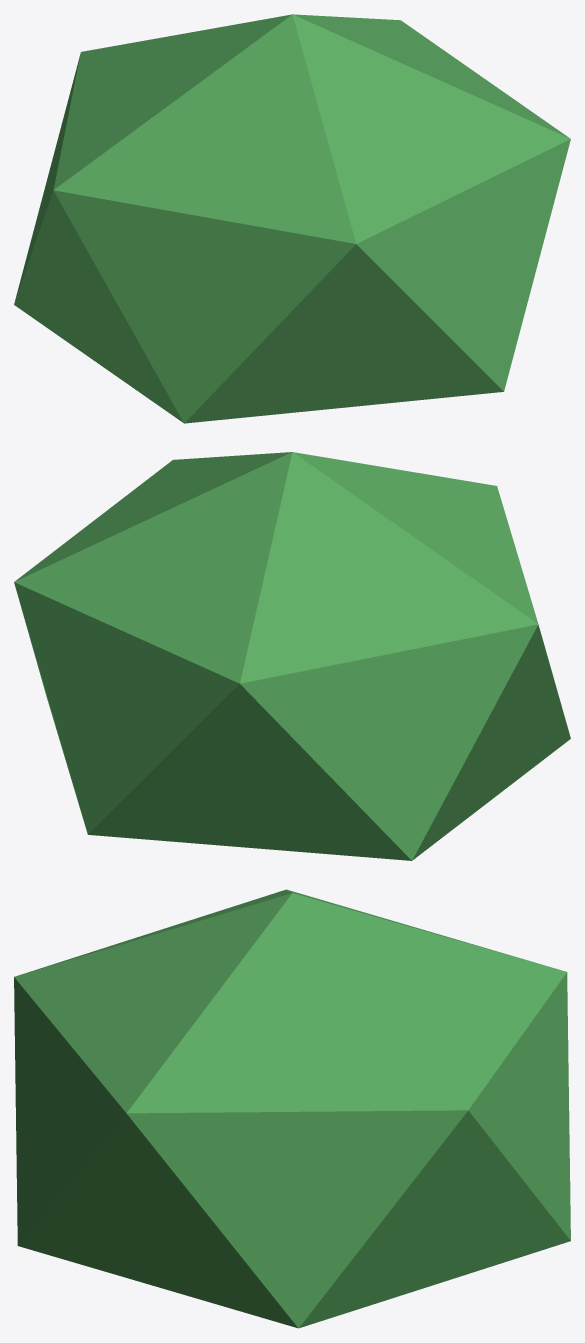
The model's file is STA_Project_Vegetations_Bush_V3.fbx.
3 renders of one model, top to bottom at view 1: azimuth 30°, elevation 25°; view 2: azimuth 150°, elevation 25°; view 3: azimuth 270°, elevation 25°, orthographic. The views are drawn at different scales.
Parts seen in each view (by area): view 1: Bush_V3; view 2: Bush_V3; view 3: Bush_V3.
Part boxes in pixels (x1,y1,x2,y2): Bush_V3: [14, 14, 570, 423]; Bush_V3: [14, 452, 570, 860]; Bush_V3: [14, 889, 570, 1328].
Bounding box in the file's own units: 312 × 207 × 298.
1 material, 1 textured.
